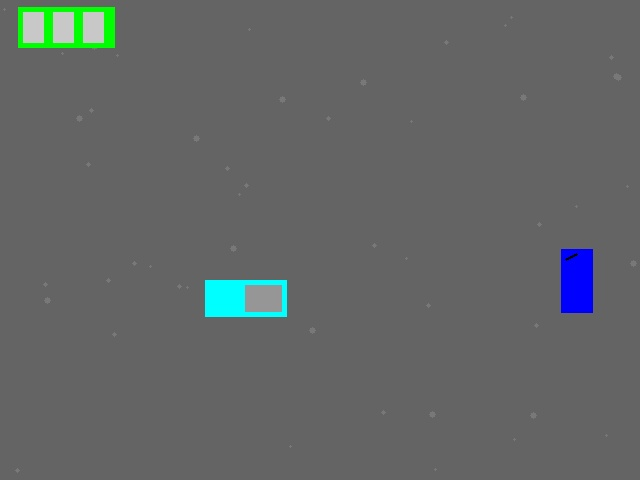bus: (18, 7, 114, 47)
motorcycle: (561, 249, 592, 312)
truck: (205, 280, 286, 316)
